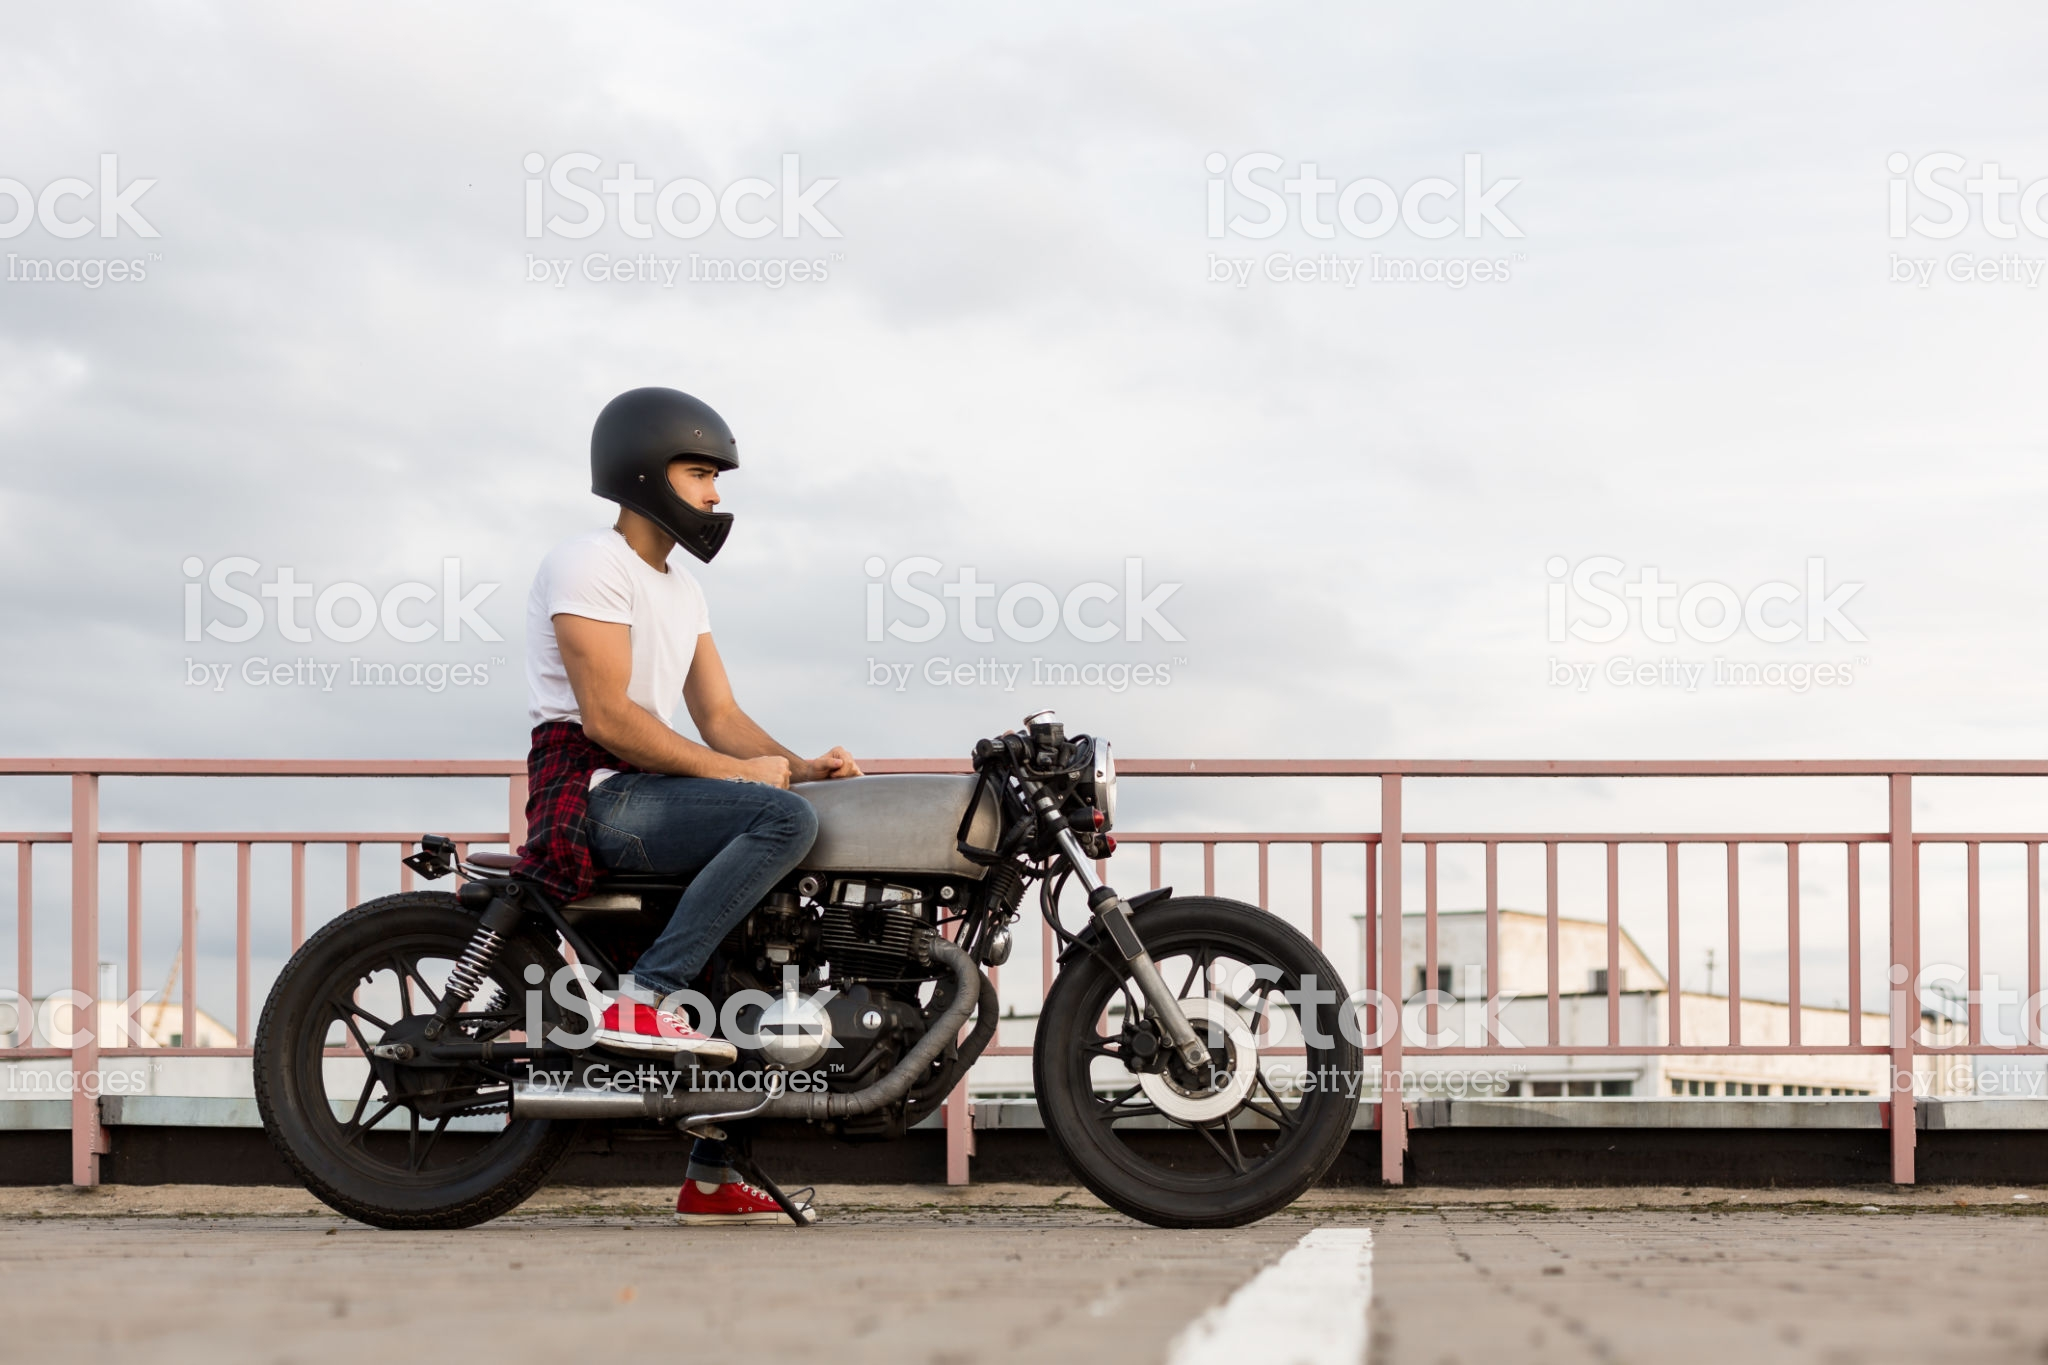helmet: (594, 376, 752, 558)
